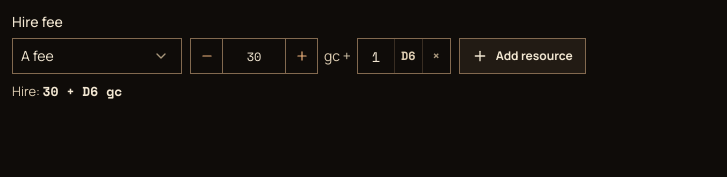
Test: FeeEditor › adds one of the campaign's resources once, and its × brings Add resource back
Click the button "Add resource": click(522, 56) 459,38 -> 586,74
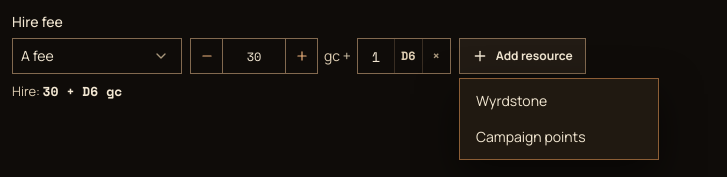
Result: the menu items read "Wyrdstone", "Campaign points", in this order
Click the menu item "Wyrdstone": click(512, 100) 476,91 -> 547,110
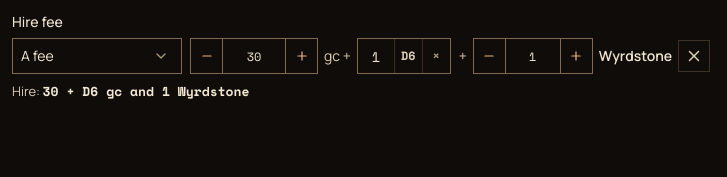
Result: the button "Add resource" is gone
Result: the text "Hire: 30 + D6 gc and 1 Wyrdstone" is shown at 12,81 -> 250,101
Click the button named "Remove Wyrdstone": click(694, 56) 678,40 -> 710,72
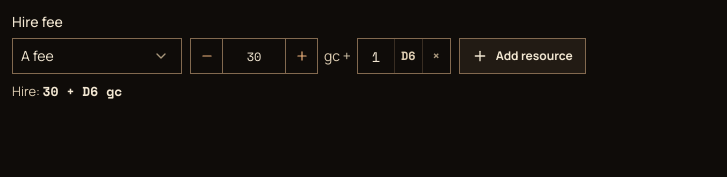
Result: the button "Add resource" is shown at 459,38 -> 586,74
